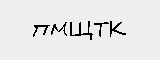К: (107, 21, 127, 39)
М: (50, 21, 67, 39)
П: (30, 23, 47, 40)
Т: (92, 21, 106, 38)
Щ: (68, 19, 94, 42)
